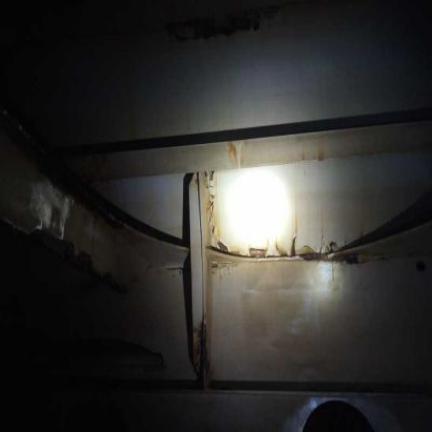besi_tidak_karat: (2, 1, 431, 146), (1, 126, 192, 376), (207, 255, 431, 384), (54, 120, 431, 182), (212, 150, 431, 254), (94, 173, 182, 235), (188, 173, 203, 374)
karat: (327, 190, 431, 260), (28, 180, 72, 239), (297, 246, 326, 260), (334, 253, 366, 263), (249, 247, 267, 256), (290, 234, 296, 254), (218, 241, 228, 251)
